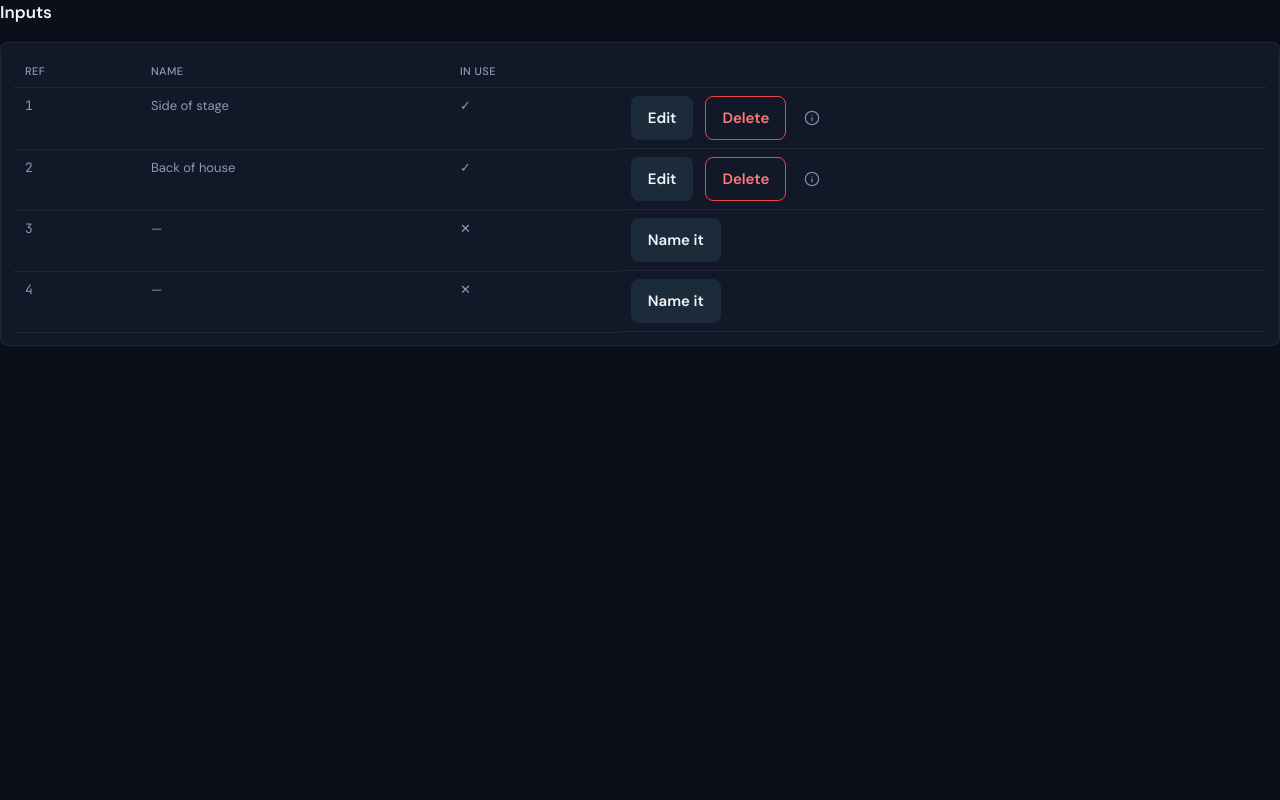
Test case: InputsSection › shows the scene reference on a delete blocked because it is in_use
Click the button "Delete" in the row of "Side of stage" at (746, 118), box [705,96,786,140]
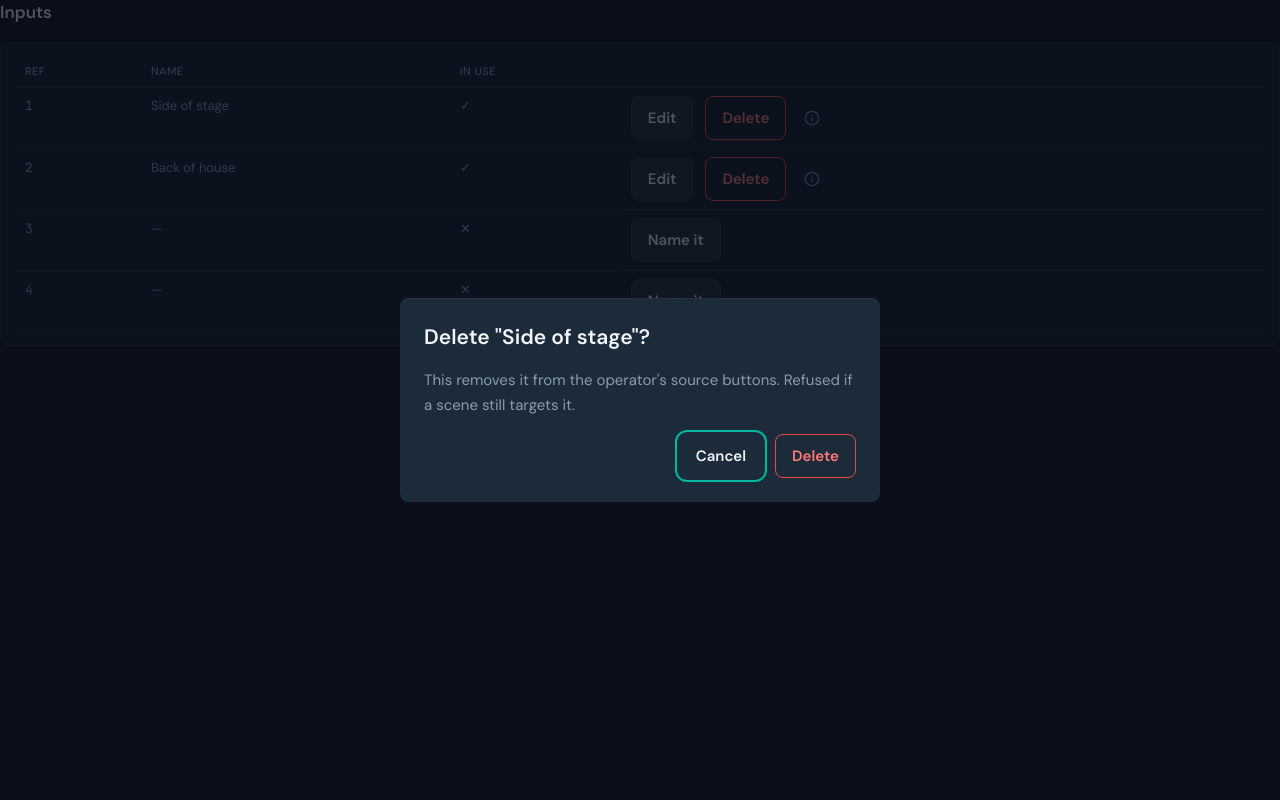
Click the button "Delete" at (816, 456), box [775,434,856,478]
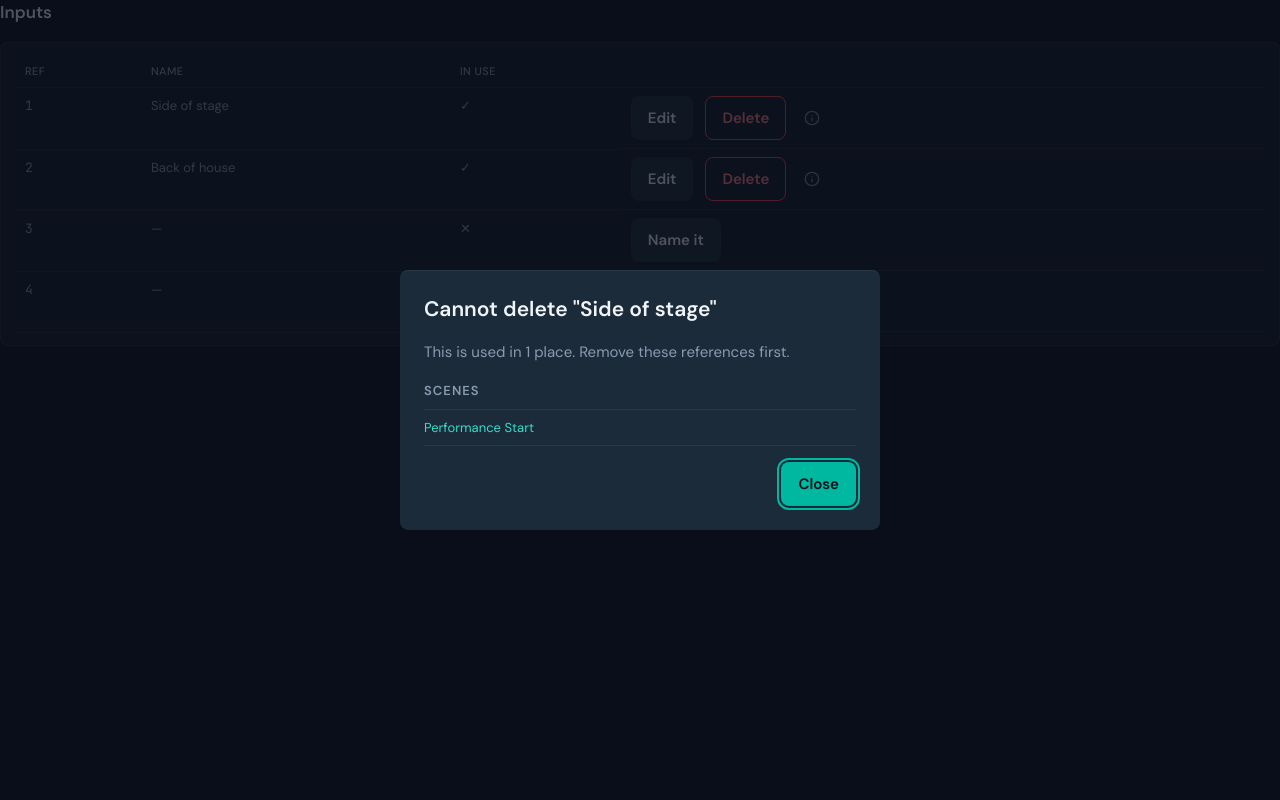
Check: the link "Performance Start" is shown, box [424,419,534,436]
